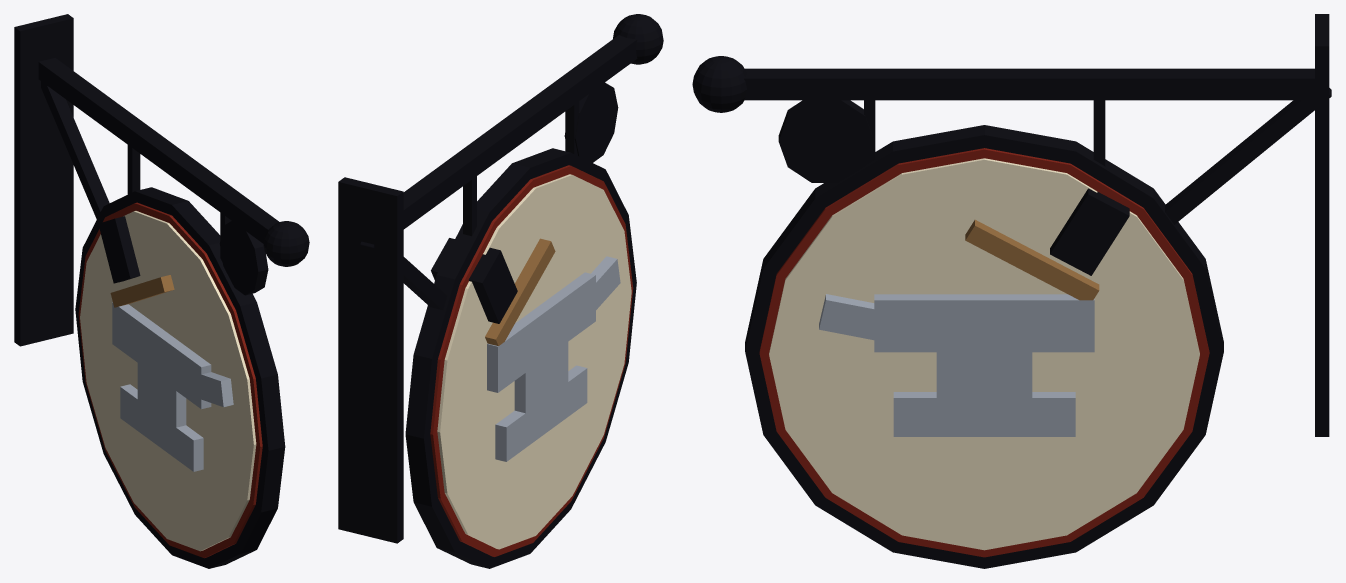
Rendered from shop_smith_sign.gltf.
3 renders of one model, left to right at view 1: azimuth 30°, elevation 25°; view 2: azimuth 150°, elevation 25°; view 3: azimuth 270°, elevation 25°, orthographic. The views are drawn at different scales.
Visible parts, largest first — view 1: ShopSmithSignShopIron, ShopSmithSignShopCream, ShopSmithSignShopSteel, ShopSmithSignShopCloth, ShopSmithSignShopWoodLight; view 2: ShopSmithSignShopIron, ShopSmithSignShopCream, ShopSmithSignShopSteel, ShopSmithSignShopCloth, ShopSmithSignShopWoodLight; view 3: ShopSmithSignShopCream, ShopSmithSignShopIron, ShopSmithSignShopSteel, ShopSmithSignShopCloth, ShopSmithSignShopWoodLight.
Part boxes in pixels (left/top/right/bottom): ShopSmithSignShopIron: left=14, top=14, right=309, bottom=568; ShopSmithSignShopCream: left=80, top=211, right=256, bottom=551; ShopSmithSignShopSteel: left=112, top=302, right=233, bottom=471; ShopSmithSignShopCloth: left=78, top=202, right=262, bottom=558; ShopSmithSignShopWoodLight: left=110, top=275, right=174, bottom=307; ShopSmithSignShopIron: left=338, top=14, right=663, bottom=568; ShopSmithSignShopCream: left=437, top=174, right=631, bottom=549; ShopSmithSignShopSteel: left=487, top=256, right=620, bottom=461; ShopSmithSignShopCloth: left=430, top=165, right=633, bottom=556; ShopSmithSignShopWoodLight: left=485, top=238, right=555, bottom=345; ShopSmithSignShopCream: left=769, top=158, right=1199, bottom=550; ShopSmithSignShopIron: left=692, top=14, right=1331, bottom=568; ShopSmithSignShopSteel: left=819, top=294, right=1094, bottom=436; ShopSmithSignShopCloth: left=759, top=148, right=1209, bottom=557; ShopSmithSignShopWoodLight: left=965, top=219, right=1099, bottom=300.
Bounding box in the file's own units: 0.16 × 1.23 × 1.33.
